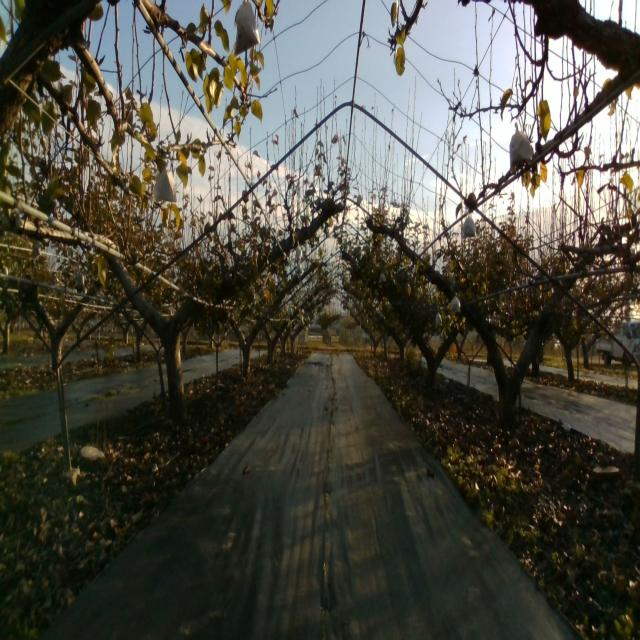pearbags: (233, 0, 262, 58), (508, 121, 534, 170), (152, 168, 178, 204), (461, 214, 476, 237), (448, 291, 461, 312)
